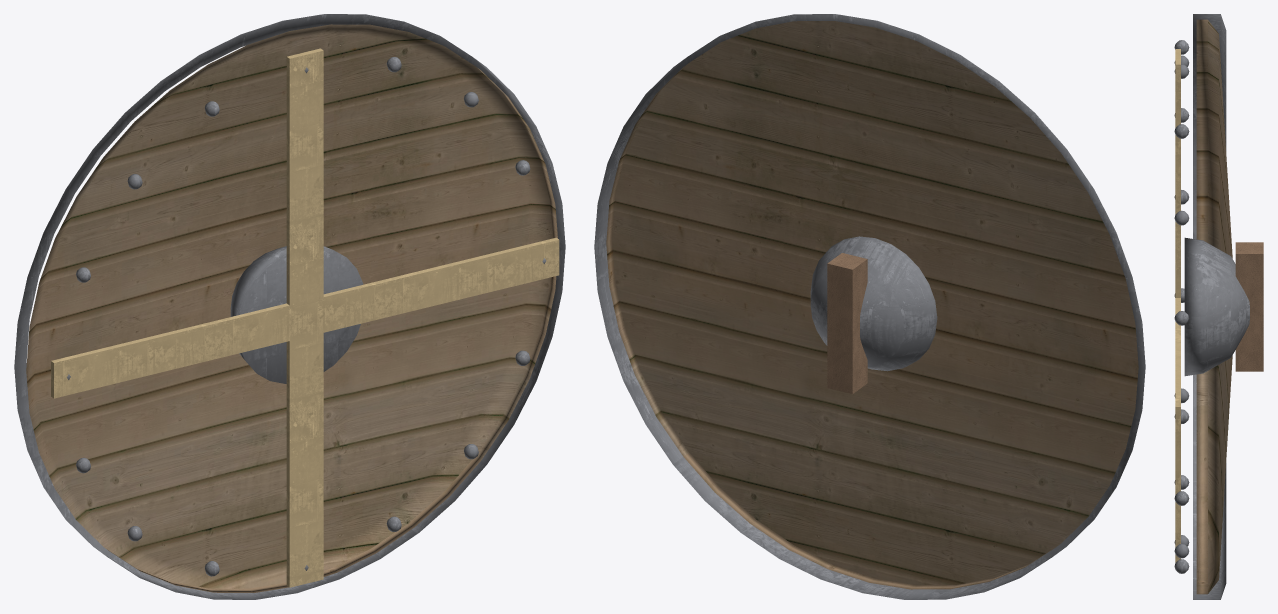
Rendered from shield_round.glb.
3 renders of one model, left to right at view 1: azimuth 30°, elevation 25°; view 2: azimuth 150°, elevation 25°; view 3: azimuth 270°, elevation 25°, orthographic. The views are drawn at different scales.
Parts seen in each view (by area): view 1: shield_round; view 2: shield_round; view 3: shield_round.
Boxes of the visible parts, x1,y1,x2,y2 form: shield_round: [14, 14, 565, 599]; shield_round: [594, 14, 1145, 599]; shield_round: [1174, 14, 1263, 599].
Size of the model in its own units: 0.632 by 0.632 by 0.096.
Materials: 4 (4 with a texture image).
